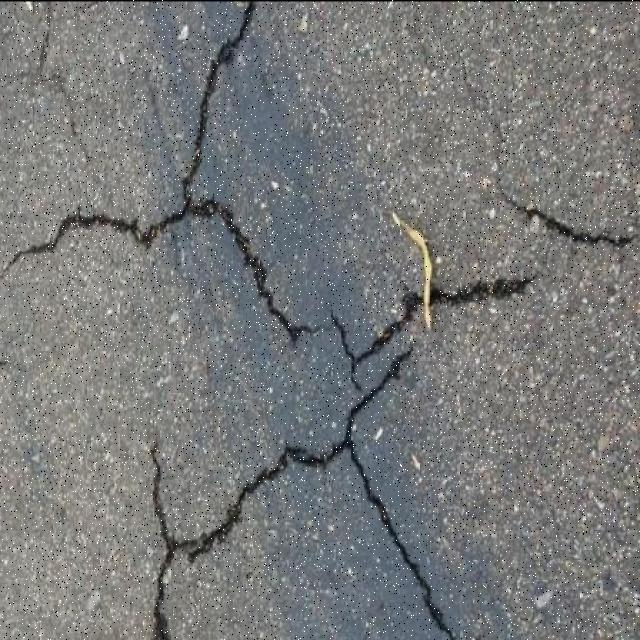Crack: (0, 0, 321, 345), (153, 345, 457, 640), (333, 270, 539, 392), (504, 197, 633, 248)
